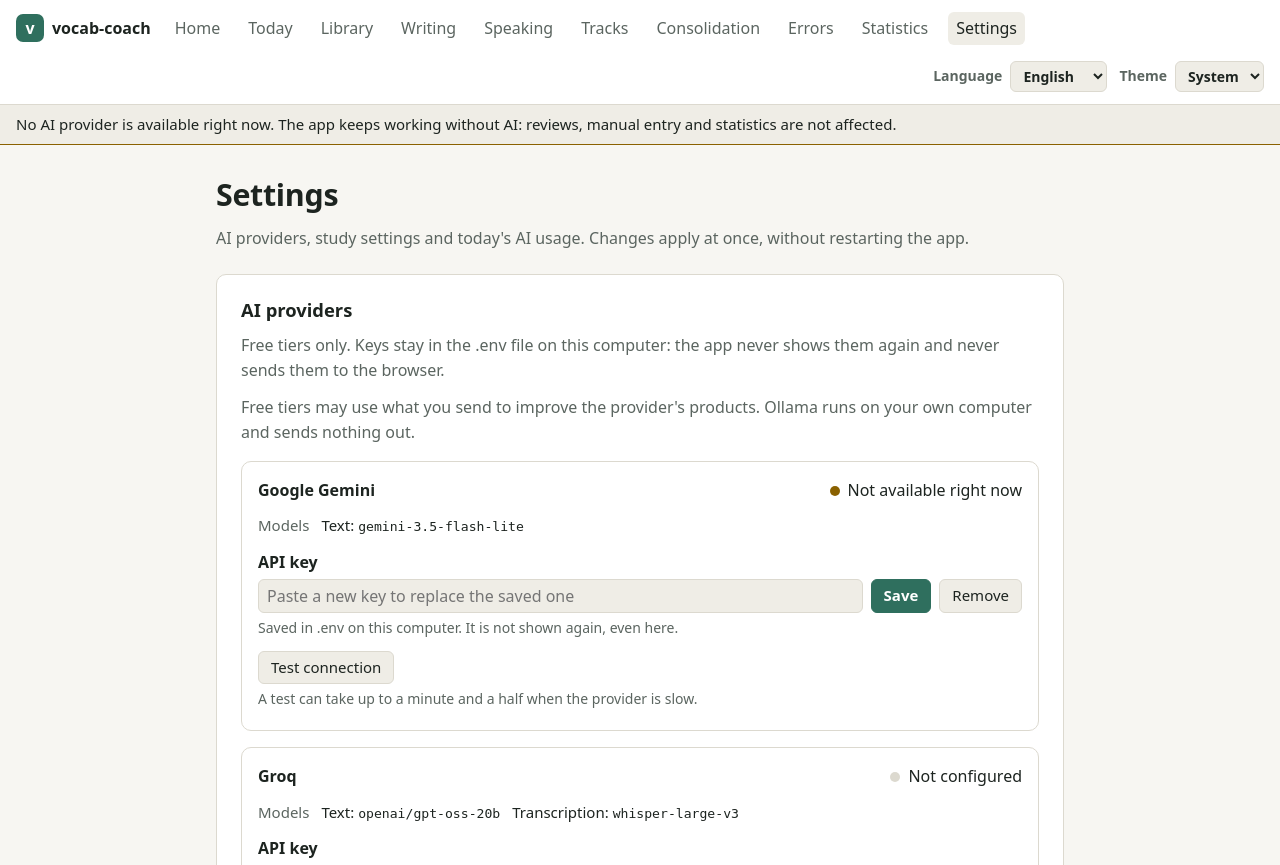
Scenario: Settings page: providers › asks for confirmation before removing a saved key
The image size is (1280, 865).
Click the button "Remove".
click(981, 596)  # box [939,578,1022,613]
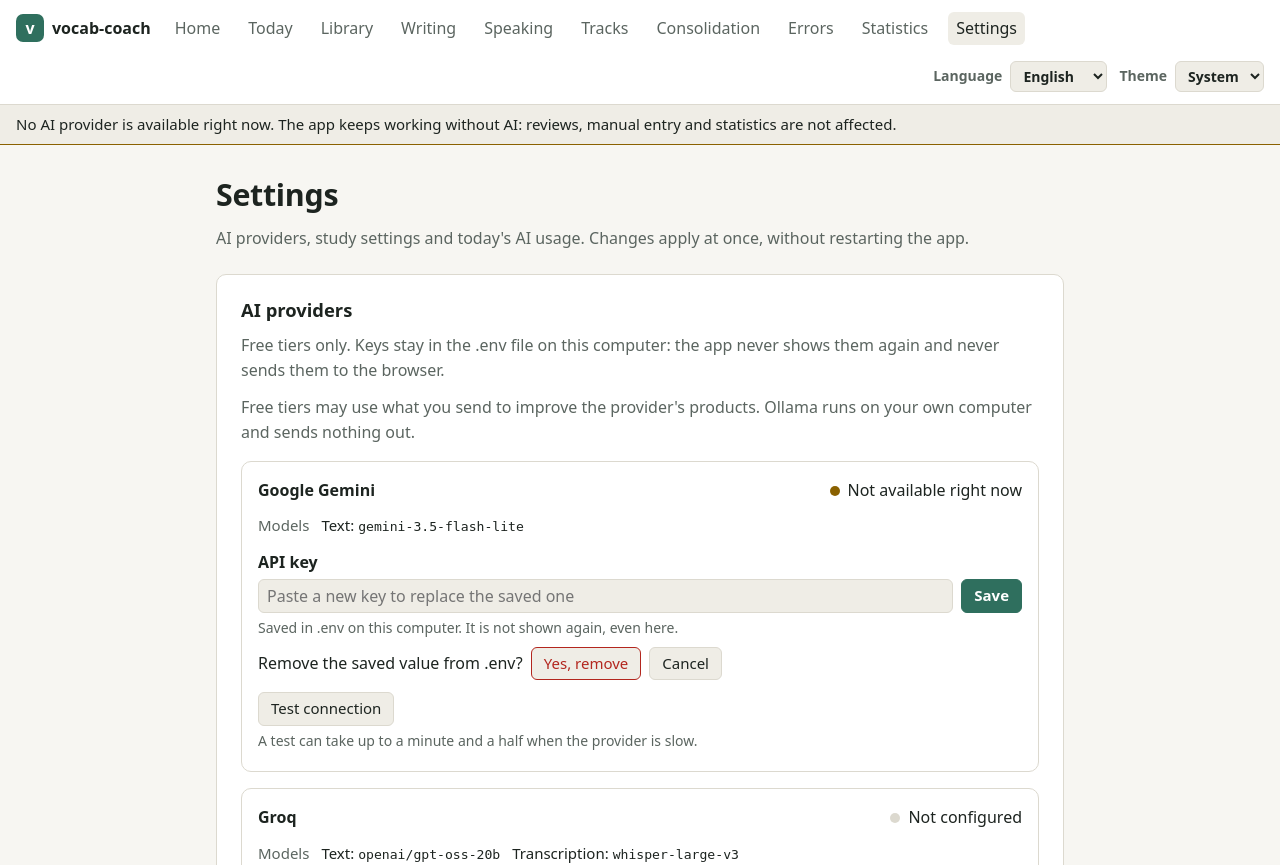
Click the button "Cancel".
click(686, 664)  # box [649,647,722,680]
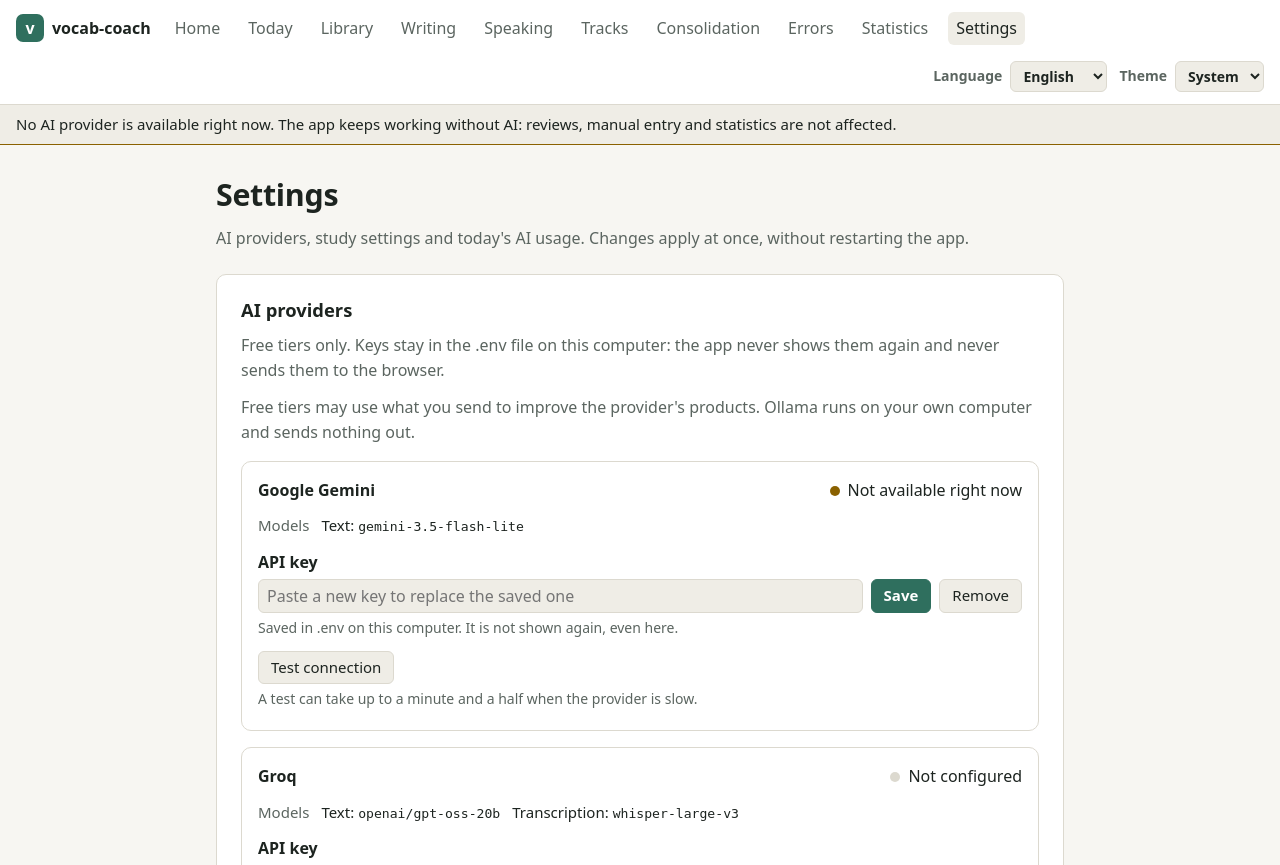
Click the button "Remove".
click(981, 596)  # box [939,578,1022,613]
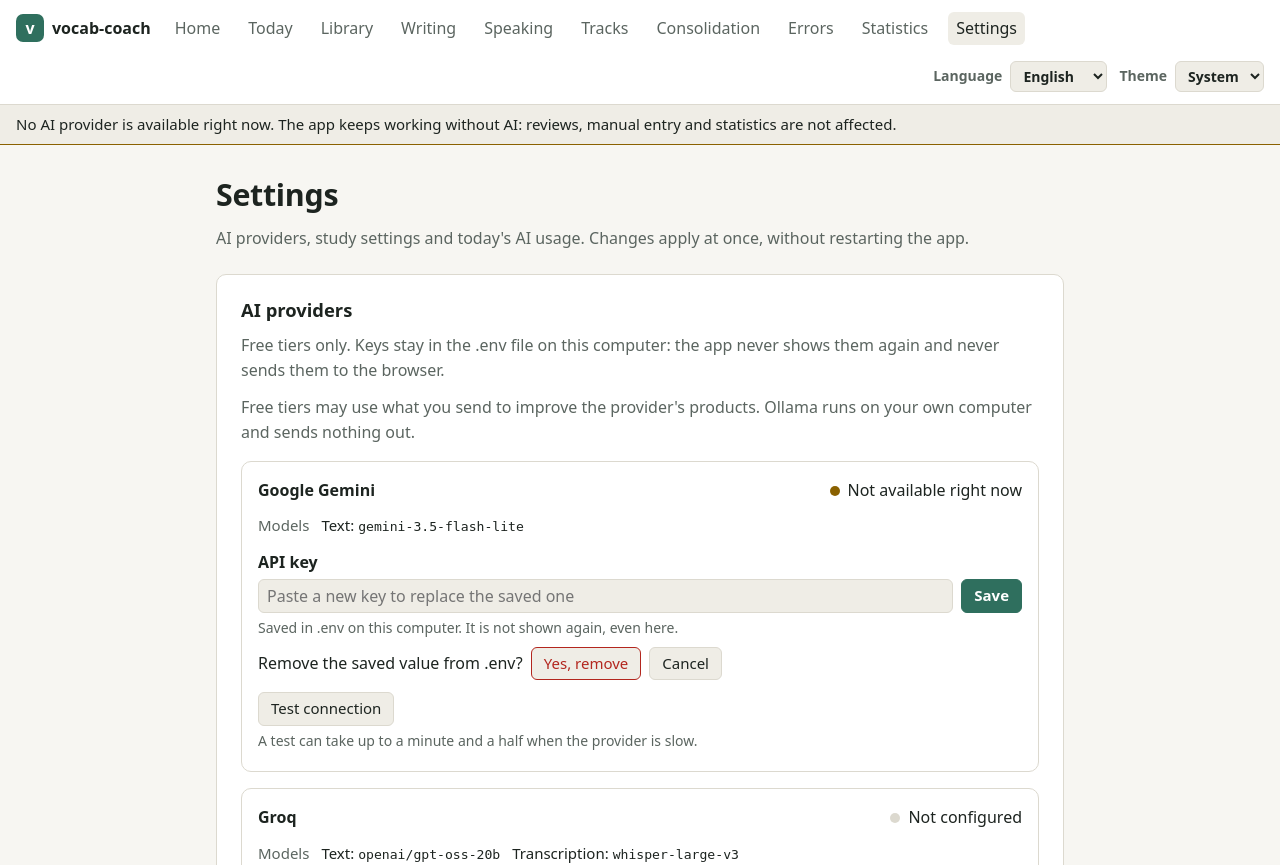
Click the button "Yes, remove".
click(586, 664)  # box [531,647,641,680]
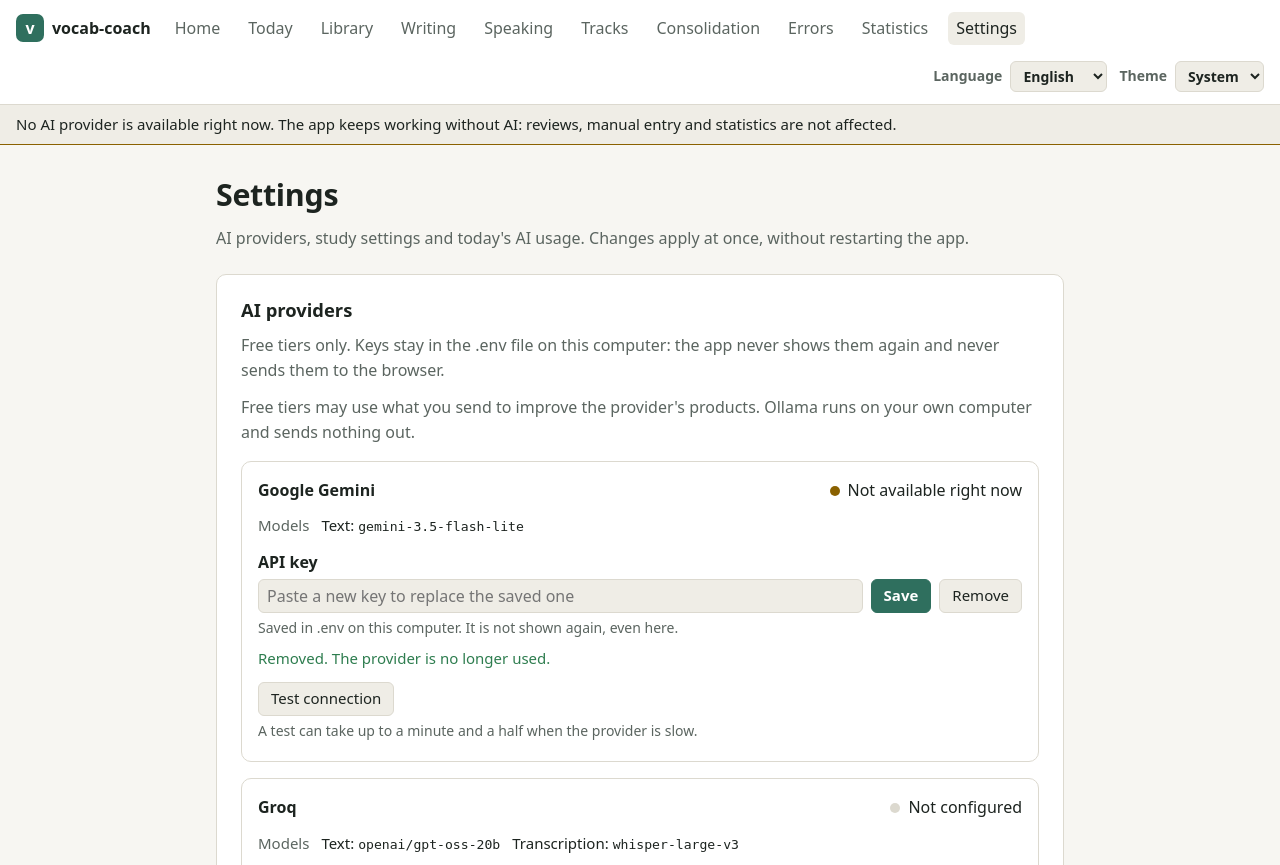
Now the text "Removed. The provider is no longer used." is shown, box [258,648,550,668]
